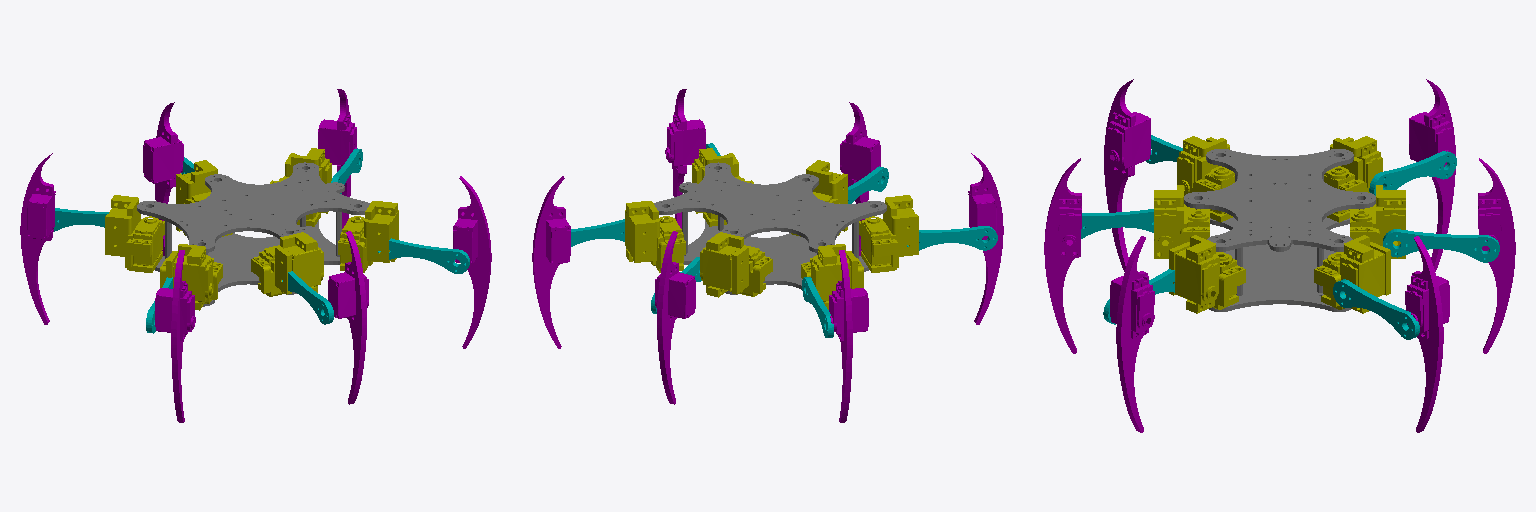
robot.urdf — hexapod:
<?xml version="1.0" encoding="utf-8"?>
<!-- =================================================================================== -->
<!-- |    This document was autogenerated by xacro from hexapod_model.xacro            | -->
<!-- |    EDITING THIS FILE BY HAND IS NOT RECOMMENDED                                 | -->
<!-- =================================================================================== -->
<robot name="hexapod">
  <!-- Robot Frame -->
  <link name="base_link"/>
  <joint name="base_joint" type="fixed">
    <parent link="base_link"/>
    <child link="body"/>
    <origin rpy="0 0 0" xyz="0 0 0"/>
  </joint>
  <link name="body">
    <inertial>
      <mass value="0.8"/>
      <inertia ixx="0.007" ixy="0" ixz="0" iyy="0.012" iyz="0" izz="0.010"/>
    </inertial>
    <visual>
      <origin rpy="0 0 0" xyz="0 0 -0.027"/>
      <geometry>
        <mesh filename="package://hexapod_description/meshes/BODY.stl"/>
      </geometry>
      <material name="grey">
        <color rgba="0.5 0.5 0.5 1"/>
      </material>
    </visual>
    <collision>
      <origin rpy="0 0 0" xyz="0 0 0"/>
      <geometry>
        <mesh filename="package://hexapod_description/meshes/BODY_SIMPLIFIED.stl"/>
      </geometry>
    </collision>
  </link>
  <!-- Construindo a perna [Building a leg]-->
  <joint name="leg_center_joint_R1" type="fixed">
    <origin rpy="0 0 0" xyz="0.0875 0.050175 0"/>
    <parent link="body"/>
    <child link="leg_center_R1"/>
  </joint>
  <link name="leg_center_R1"/>
  <joint name="coxa_joint_R1" type="revolute">
    <origin rpy="0 0 2.35619449019" xyz="0 0 0"/>
    <parent link="leg_center_R1"/>
    <child link="coxa_R1"/>
    <axis xyz="0 0 -1"/>
    <limit effort="10000" lower="-1.5" upper="1.5" velocity="100"/>
  </joint>
  <link name="coxa_R1">
    <inertial>
      <mass value="0.5"/>
      <inertia ixx="0.001" ixy="0" ixz="0" iyy="0" iyz="0" izz="0.001"/>
    </inertial>
    <visual>
      <origin rpy="0 0 0" xyz="0 0 -0.025"/>
      <geometry>
        <mesh filename="package://hexapod_description/meshes/COXA_R.stl"/>
      </geometry>
      <material name="">
        <color rgba="0.7 0.7 0 1"/>
      </material>
    </visual>
    <collision>
      <origin rpy="0 0 0" xyz="0 0 0"/>
      <geometry>
        <mesh filename="package://hexapod_description/meshes/COXA_R_SIMPLIFIED.stl"/>
      </geometry>
    </collision>
  </link>
  <joint name="femur_joint_R1" type="revolute">
    <origin rpy="0 0 0" xyz="0 -0.03 0"/>
    <parent link="coxa_R1"/>
    <child link="femur_R1"/>
    <axis xyz="-1 0 0"/>
    <limit effort="10000" lower="-0.52" upper="0.61" velocity="100"/>
  </joint>
  <link name="femur_R1">
    <inertial>
      <mass value="0.05"/>
      <inertia ixx="0" ixy="0" ixz="0" iyy="0" iyz="0" izz="0"/>
    </inertial>
    <visual>
      <origin rpy="0 0 0" xyz="-0.022 0 0"/>
      <geometry>
        <mesh filename="package://hexapod_description/meshes/FEMUR_R.stl"/>
      </geometry>
      <material name="">
        <color rgba="0 0.7 0.7 1"/>
      </material>
    </visual>
    <collision>
      <origin rpy="0 0 0" xyz="0 0 0"/>
      <geometry>
        <mesh filename="package://hexapod_description/meshes/FEMUR_R_SIMPLIFIED.stl"/>
      </geometry>
    </collision>
  </link>
  <joint name="tibia_joint_R1" type="revolute">
    <origin rpy="-1.57079632679 0 3.14159265359" xyz="0 -0.08 0"/>
    <parent link="femur_R1"/>
    <child link="tibia_R1"/>
    <axis xyz="1 0 0"/>
    <limit effort="10000" lower="-0.87" upper="1.22" velocity="100"/>
  </joint>
  <link name="tibia_R1">
    <inertial>
      <mass value="0.2"/>
      <inertia ixx="0" ixy="0" ixz="0" iyy="0" iyz="0" izz="0"/>
    </inertial>
    <visual>
      <origin rpy="2.61799387799  3.14159265359 0" xyz="0.022 0 0"/>
      <geometry>
        <mesh filename="package://hexapod_description/meshes/TIBIA_R.stl"/>
      </geometry>
      <material name="">
        <color rgba="0.7 0 0.7 1"/>
      </material>
    </visual>
    <collision>
      <origin rpy="0 0 0" xyz="0 0 0"/>
      <geometry>
        <mesh filename="package://hexapod_description/meshes/TIBIA_R_SIMPLIFIED.stl"/>
      </geometry>
    </collision>
  </link>
  <joint name="tibia_foot_joint_R1" type="fixed">
    <origin rpy="0 0 0" xyz="0 0.110 0"/>
    <parent link="tibia_R1"/>
    <child link="tibia_foot_R1"/>
  </joint>
  <link name="tibia_foot_R1"/>
  <!-- Construindo a perna [Building a leg]-->
  <joint name="leg_center_joint_R2" type="fixed">
    <origin rpy="0 0 0" xyz="0 0.07 0"/>
    <parent link="body"/>
    <child link="leg_center_R2"/>
  </joint>
  <link name="leg_center_R2"/>
  <joint name="coxa_joint_R2" type="revolute">
    <origin rpy="0 0 3.14159265359" xyz="0 0 0"/>
    <parent link="leg_center_R2"/>
    <child link="coxa_R2"/>
    <axis xyz="0 0 -1"/>
    <limit effort="10000" lower="-1.5" upper="1.5" velocity="100"/>
  </joint>
  <link name="coxa_R2">
    <inertial>
      <mass value="0.5"/>
      <inertia ixx="0.001" ixy="0" ixz="0" iyy="0" iyz="0" izz="0.001"/>
    </inertial>
    <visual>
      <origin rpy="0 0 0" xyz="0 0 -0.025"/>
      <geometry>
        <mesh filename="package://hexapod_description/meshes/COXA_R.stl"/>
      </geometry>
      <material name="">
        <color rgba="0.7 0.7 0 1"/>
      </material>
    </visual>
    <collision>
      <origin rpy="0 0 0" xyz="0 0 0"/>
      <geometry>
        <mesh filename="package://hexapod_description/meshes/COXA_R_SIMPLIFIED.stl"/>
      </geometry>
    </collision>
  </link>
  <joint name="femur_joint_R2" type="revolute">
    <origin rpy="0 0 0" xyz="0 -0.03 0"/>
    <parent link="coxa_R2"/>
    <child link="femur_R2"/>
    <axis xyz="-1 0 0"/>
    <limit effort="10000" lower="-0.52" upper="0.61" velocity="100"/>
  </joint>
  <link name="femur_R2">
    <inertial>
      <mass value="0.05"/>
      <inertia ixx="0" ixy="0" ixz="0" iyy="0" iyz="0" izz="0"/>
    </inertial>
    <visual>
      <origin rpy="0 0 0" xyz="-0.022 0 0"/>
      <geometry>
        <mesh filename="package://hexapod_description/meshes/FEMUR_R.stl"/>
      </geometry>
      <material name="">
        <color rgba="0 0.7 0.7 1"/>
      </material>
    </visual>
    <collision>
      <origin rpy="0 0 0" xyz="0 0 0"/>
      <geometry>
        <mesh filename="package://hexapod_description/meshes/FEMUR_R_SIMPLIFIED.stl"/>
      </geometry>
    </collision>
  </link>
  <joint name="tibia_joint_R2" type="revolute">
    <origin rpy="-1.57079632679 0 3.14159265359" xyz="0 -0.08 0"/>
    <parent link="femur_R2"/>
    <child link="tibia_R2"/>
    <axis xyz="1 0 0"/>
    <limit effort="10000" lower="-0.87" upper="1.22" velocity="100"/>
  </joint>
  <link name="tibia_R2">
    <inertial>
      <mass value="0.2"/>
      <inertia ixx="0" ixy="0" ixz="0" iyy="0" iyz="0" izz="0"/>
    </inertial>
    <visual>
      <origin rpy="2.61799387799  3.14159265359 0" xyz="0.022 0 0"/>
      <geometry>
        <mesh filename="package://hexapod_description/meshes/TIBIA_R.stl"/>
      </geometry>
      <material name="">
        <color rgba="0.7 0 0.7 1"/>
      </material>
    </visual>
    <collision>
      <origin rpy="0 0 0" xyz="0 0 0"/>
      <geometry>
        <mesh filename="package://hexapod_description/meshes/TIBIA_R_SIMPLIFIED.stl"/>
      </geometry>
    </collision>
  </link>
  <joint name="tibia_foot_joint_R2" type="fixed">
    <origin rpy="0 0 0" xyz="0 0.110 0"/>
    <parent link="tibia_R2"/>
    <child link="tibia_foot_R2"/>
  </joint>
  <link name="tibia_foot_R2"/>
  <!-- Construindo a perna [Building a leg]-->
  <joint name="leg_center_joint_R3" type="fixed">
    <origin rpy="0 0 0" xyz="-0.0875 0.050175 0"/>
    <parent link="body"/>
    <child link="leg_center_R3"/>
  </joint>
  <link name="leg_center_R3"/>
  <joint name="coxa_joint_R3" type="revolute">
    <origin rpy="0 0 3.92699081699" xyz="0 0 0"/>
    <parent link="leg_center_R3"/>
    <child link="coxa_R3"/>
    <axis xyz="0 0 -1"/>
    <limit effort="10000" lower="-1.5" upper="1.5" velocity="100"/>
  </joint>
  <link name="coxa_R3">
    <inertial>
      <mass value="0.5"/>
      <inertia ixx="0.001" ixy="0" ixz="0" iyy="0" iyz="0" izz="0.001"/>
    </inertial>
    <visual>
      <origin rpy="0 0 0" xyz="0 0 -0.025"/>
      <geometry>
        <mesh filename="package://hexapod_description/meshes/COXA_R.stl"/>
      </geometry>
      <material name="">
        <color rgba="0.7 0.7 0 1"/>
      </material>
    </visual>
    <collision>
      <origin rpy="0 0 0" xyz="0 0 0"/>
      <geometry>
        <mesh filename="package://hexapod_description/meshes/COXA_R_SIMPLIFIED.stl"/>
      </geometry>
    </collision>
  </link>
  <joint name="femur_joint_R3" type="revolute">
    <origin rpy="0 0 0" xyz="0 -0.03 0"/>
    <parent link="coxa_R3"/>
    <child link="femur_R3"/>
    <axis xyz="-1 0 0"/>
    <limit effort="10000" lower="-0.52" upper="0.61" velocity="100"/>
  </joint>
  <link name="femur_R3">
    <inertial>
      <mass value="0.05"/>
      <inertia ixx="0" ixy="0" ixz="0" iyy="0" iyz="0" izz="0"/>
    </inertial>
    <visual>
      <origin rpy="0 0 0" xyz="-0.022 0 0"/>
      <geometry>
        <mesh filename="package://hexapod_description/meshes/FEMUR_R.stl"/>
      </geometry>
      <material name="">
        <color rgba="0 0.7 0.7 1"/>
      </material>
    </visual>
    <collision>
      <origin rpy="0 0 0" xyz="0 0 0"/>
      <geometry>
        <mesh filename="package://hexapod_description/meshes/FEMUR_R_SIMPLIFIED.stl"/>
      </geometry>
    </collision>
  </link>
  <joint name="tibia_joint_R3" type="revolute">
    <origin rpy="-1.57079632679 0 3.14159265359" xyz="0 -0.08 0"/>
    <parent link="femur_R3"/>
    <child link="tibia_R3"/>
    <axis xyz="1 0 0"/>
    <limit effort="10000" lower="-0.87" upper="1.22" velocity="100"/>
  </joint>
  <link name="tibia_R3">
    <inertial>
      <mass value="0.2"/>
      <inertia ixx="0" ixy="0" ixz="0" iyy="0" iyz="0" izz="0"/>
    </inertial>
    <visual>
      <origin rpy="2.61799387799  3.14159265359 0" xyz="0.022 0 0"/>
      <geometry>
        <mesh filename="package://hexapod_description/meshes/TIBIA_R.stl"/>
      </geometry>
      <material name="">
        <color rgba="0.7 0 0.7 1"/>
      </material>
    </visual>
    <collision>
      <origin rpy="0 0 0" xyz="0 0 0"/>
      <geometry>
        <mesh filename="package://hexapod_description/meshes/TIBIA_R_SIMPLIFIED.stl"/>
      </geometry>
    </collision>
  </link>
  <joint name="tibia_foot_joint_R3" type="fixed">
    <origin rpy="0 0 0" xyz="0 0.110 0"/>
    <parent link="tibia_R3"/>
    <child link="tibia_foot_R3"/>
  </joint>
  <link name="tibia_foot_R3"/>
  <!-- Construindo a perna [Building a leg]-->
  <joint name="leg_center_joint_L1" type="fixed">
    <origin rpy="0 0 0" xyz="0.0875 -0.050175 0"/>
    <parent link="body"/>
    <child link="leg_center_L1"/>
  </joint>
  <link name="leg_center_L1"/>
  <joint name="coxa_joint_L1" type="revolute">
    <origin rpy="0 0 -2.35619449019" xyz="0 0 0"/>
    <parent link="leg_center_L1"/>
    <child link="coxa_L1"/>
    <axis xyz="0 0 -1"/>
    <limit effort="10000" lower="-1.5" upper="1.5" velocity="100"/>
  </joint>
  <link name="coxa_L1">
    <inertial>
      <mass value="0.5"/>
      <inertia ixx="0.001" ixy="0" ixz="0" iyy="0" iyz="0" izz="0.001"/>
    </inertial>
    <visual>
      <origin rpy="0 0 0" xyz="0 0 -0.025"/>
      <geometry>
        <mesh filename="package://hexapod_description/meshes/COXA_L.stl"/>
      </geometry>
      <material name="">
        <color rgba="0.7 0.7 0 1"/>
      </material>
    </visual>
    <collision>
      <origin rpy="0 0 0" xyz="0 0 0"/>
      <geometry>
        <mesh filename="package://hexapod_description/meshes/COXA_L_SIMPLIFIED.stl"/>
      </geometry>
    </collision>
  </link>
  <joint name="femur_joint_L1" type="revolute">
    <origin rpy="0 0 0" xyz="0 0.03 0"/>
    <parent link="coxa_L1"/>
    <child link="femur_L1"/>
    <axis xyz="-1 0 0"/>
    <limit effort="10000" lower="-0.52" upper="0.61" velocity="100"/>
  </joint>
  <link name="femur_L1">
    <inertial>
      <mass value="0.05"/>
      <inertia ixx="0" ixy="0" ixz="0" iyy="0" iyz="0" izz="0"/>
    </inertial>
    <visual>
      <origin rpy="0 0 0" xyz="0.022 0 0"/>
      <geometry>
        <mesh filename="package://hexapod_description/meshes/FEMUR_L.stl"/>
      </geometry>
      <material name="">
        <color rgba="0 0.7 0.7 1"/>
      </material>
    </visual>
    <collision>
      <origin rpy="0 0 0" xyz="0 0 0"/>
      <geometry>
        <mesh filename="package://hexapod_description/meshes/FEMUR_L_SIMPLIFIED.stl"/>
      </geometry>
    </collision>
  </link>
  <joint name="tibia_joint_L1" type="revolute">
    <origin rpy="-1.57079632679 0 0.0" xyz="0 0.08 0"/>
    <parent link="femur_L1"/>
    <child link="tibia_L1"/>
    <axis xyz="1 0 0"/>
    <limit effort="10000" lower="-0.87" upper="1.22" velocity="100"/>
  </joint>
  <link name="tibia_L1">
    <inertial>
      <mass value="0.2"/>
      <inertia ixx="0" ixy="0" ixz="0" iyy="0" iyz="0" izz="0"/>
    </inertial>
    <visual>
      <origin rpy="0.523598775598  0.0 0" xyz="-0.022 0 0"/>
      <geometry>
        <mesh filename="package://hexapod_description/meshes/TIBIA_L.stl"/>
      </geometry>
      <material name="">
        <color rgba="0.7 0 0.7 1"/>
      </material>
    </visual>
    <collision>
      <origin rpy="0 0 0" xyz="0 0 0"/>
      <geometry>
        <mesh filename="package://hexapod_description/meshes/TIBIA_L_SIMPLIFIED.stl"/>
      </geometry>
    </collision>
  </link>
  <joint name="tibia_foot_joint_L1" type="fixed">
    <origin rpy="0 0 0" xyz="0 0.110 0"/>
    <parent link="tibia_L1"/>
    <child link="tibia_foot_L1"/>
  </joint>
  <link name="tibia_foot_L1"/>
  <!-- Construindo a perna [Building a leg]-->
  <joint name="leg_center_joint_L2" type="fixed">
    <origin rpy="0 0 0" xyz="0 -0.07 0"/>
    <parent link="body"/>
    <child link="leg_center_L2"/>
  </joint>
  <link name="leg_center_L2"/>
  <joint name="coxa_joint_L2" type="revolute">
    <origin rpy="0 0 -3.14159265359" xyz="0 0 0"/>
    <parent link="leg_center_L2"/>
    <child link="coxa_L2"/>
    <axis xyz="0 0 -1"/>
    <limit effort="10000" lower="-1.5" upper="1.5" velocity="100"/>
  </joint>
  <link name="coxa_L2">
    <inertial>
      <mass value="0.5"/>
      <inertia ixx="0.001" ixy="0" ixz="0" iyy="0" iyz="0" izz="0.001"/>
    </inertial>
    <visual>
      <origin rpy="0 0 0" xyz="0 0 -0.025"/>
      <geometry>
        <mesh filename="package://hexapod_description/meshes/COXA_L.stl"/>
      </geometry>
      <material name="">
        <color rgba="0.7 0.7 0 1"/>
      </material>
    </visual>
    <collision>
      <origin rpy="0 0 0" xyz="0 0 0"/>
      <geometry>
        <mesh filename="package://hexapod_description/meshes/COXA_L_SIMPLIFIED.stl"/>
      </geometry>
    </collision>
  </link>
  <joint name="femur_joint_L2" type="revolute">
    <origin rpy="0 0 0" xyz="0 0.03 0"/>
    <parent link="coxa_L2"/>
    <child link="femur_L2"/>
    <axis xyz="-1 0 0"/>
    <limit effort="10000" lower="-0.52" upper="0.61" velocity="100"/>
  </joint>
  <link name="femur_L2">
    <inertial>
      <mass value="0.05"/>
      <inertia ixx="0" ixy="0" ixz="0" iyy="0" iyz="0" izz="0"/>
    </inertial>
    <visual>
      <origin rpy="0 0 0" xyz="0.022 0 0"/>
      <geometry>
        <mesh filename="package://hexapod_description/meshes/FEMUR_L.stl"/>
      </geometry>
      <material name="">
        <color rgba="0 0.7 0.7 1"/>
      </material>
    </visual>
    <collision>
      <origin rpy="0 0 0" xyz="0 0 0"/>
      <geometry>
        <mesh filename="package://hexapod_description/meshes/FEMUR_L_SIMPLIFIED.stl"/>
      </geometry>
    </collision>
  </link>
  <joint name="tibia_joint_L2" type="revolute">
    <origin rpy="-1.57079632679 0 0.0" xyz="0 0.08 0"/>
    <parent link="femur_L2"/>
    <child link="tibia_L2"/>
    <axis xyz="1 0 0"/>
    <limit effort="10000" lower="-0.87" upper="1.22" velocity="100"/>
  </joint>
  <link name="tibia_L2">
    <inertial>
      <mass value="0.2"/>
      <inertia ixx="0" ixy="0" ixz="0" iyy="0" iyz="0" izz="0"/>
    </inertial>
    <visual>
      <origin rpy="0.523598775598  0.0 0" xyz="-0.022 0 0"/>
      <geometry>
        <mesh filename="package://hexapod_description/meshes/TIBIA_L.stl"/>
      </geometry>
      <material name="">
        <color rgba="0.7 0 0.7 1"/>
      </material>
    </visual>
    <collision>
      <origin rpy="0 0 0" xyz="0 0 0"/>
      <geometry>
        <mesh filename="package://hexapod_description/meshes/TIBIA_L_SIMPLIFIED.stl"/>
      </geometry>
    </collision>
  </link>
  <joint name="tibia_foot_joint_L2" type="fixed">
    <origin rpy="0 0 0" xyz="0 0.110 0"/>
    <parent link="tibia_L2"/>
    <child link="tibia_foot_L2"/>
  </joint>
  <link name="tibia_foot_L2"/>
  <!-- Construindo a perna [Building a leg]-->
  <joint name="leg_center_joint_L3" type="fixed">
    <origin rpy="0 0 0" xyz="-0.0875 -0.050175 0"/>
    <parent link="body"/>
    <child link="leg_center_L3"/>
  </joint>
  <link name="leg_center_L3"/>
  <joint name="coxa_joint_L3" type="revolute">
    <origin rpy="0 0 -3.92699081699" xyz="0 0 0"/>
    <parent link="leg_center_L3"/>
    <child link="coxa_L3"/>
    <axis xyz="0 0 -1"/>
    <limit effort="10000" lower="-1.5" upper="1.5" velocity="100"/>
  </joint>
  <link name="coxa_L3">
    <inertial>
      <mass value="0.5"/>
      <inertia ixx="0.001" ixy="0" ixz="0" iyy="0" iyz="0" izz="0.001"/>
    </inertial>
    <visual>
      <origin rpy="0 0 0" xyz="0 0 -0.025"/>
      <geometry>
        <mesh filename="package://hexapod_description/meshes/COXA_L.stl"/>
      </geometry>
      <material name="">
        <color rgba="0.7 0.7 0 1"/>
      </material>
    </visual>
    <collision>
      <origin rpy="0 0 0" xyz="0 0 0"/>
      <geometry>
        <mesh filename="package://hexapod_description/meshes/COXA_L_SIMPLIFIED.stl"/>
      </geometry>
    </collision>
  </link>
  <joint name="femur_joint_L3" type="revolute">
    <origin rpy="0 0 0" xyz="0 0.03 0"/>
    <parent link="coxa_L3"/>
    <child link="femur_L3"/>
    <axis xyz="-1 0 0"/>
    <limit effort="10000" lower="-0.52" upper="0.61" velocity="100"/>
  </joint>
  <link name="femur_L3">
    <inertial>
      <mass value="0.05"/>
      <inertia ixx="0" ixy="0" ixz="0" iyy="0" iyz="0" izz="0"/>
    </inertial>
    <visual>
      <origin rpy="0 0 0" xyz="0.022 0 0"/>
      <geometry>
        <mesh filename="package://hexapod_description/meshes/FEMUR_L.stl"/>
      </geometry>
      <material name="">
        <color rgba="0 0.7 0.7 1"/>
      </material>
    </visual>
    <collision>
      <origin rpy="0 0 0" xyz="0 0 0"/>
      <geometry>
        <mesh filename="package://hexapod_description/meshes/FEMUR_L_SIMPLIFIED.stl"/>
      </geometry>
    </collision>
  </link>
  <joint name="tibia_joint_L3" type="revolute">
    <origin rpy="-1.57079632679 0 0.0" xyz="0 0.08 0"/>
    <parent link="femur_L3"/>
    <child link="tibia_L3"/>
    <axis xyz="1 0 0"/>
    <limit effort="10000" lower="-0.87" upper="1.22" velocity="100"/>
  </joint>
  <link name="tibia_L3">
    <inertial>
      <mass value="0.2"/>
      <inertia ixx="0" ixy="0" ixz="0" iyy="0" iyz="0" izz="0"/>
    </inertial>
    <visual>
      <origin rpy="0.523598775598  0.0 0" xyz="-0.022 0 0"/>
      <geometry>
        <mesh filename="package://hexapod_description/meshes/TIBIA_L.stl"/>
      </geometry>
      <material name="">
        <color rgba="0.7 0 0.7 1"/>
      </material>
    </visual>
    <collision>
      <origin rpy="0 0 0" xyz="0 0 0"/>
      <geometry>
        <mesh filename="package://hexapod_description/meshes/TIBIA_L_SIMPLIFIED.stl"/>
      </geometry>
    </collision>
  </link>
  <joint name="tibia_foot_joint_L3" type="fixed">
    <origin rpy="0 0 0" xyz="0 0.110 0"/>
    <parent link="tibia_L3"/>
    <child link="tibia_foot_L3"/>
  </joint>
  <link name="tibia_foot_L3"/>
</robot>

--- What the picture shows (computed from the rendered views, not written in the file) ---
The picture shows the robot from 3 angles, left to right: view 1: azimuth 30°, elevation 25°; view 2: azimuth 150°, elevation 25°; view 3: azimuth 270°, elevation 25°; orthographic projection.
Robot: hexapod — 32 links, 31 joints (18 revolute, 13 fixed); root link base_link; default pose: every joint at zero.
Links seen in each view (by area): view 1: body, coxa_R3, coxa_L2, tibia_L2, tibia_R3, tibia_L1, tibia_L3, coxa_L1, tibia_R2, coxa_L3, tibia_R1, femur_L1 (+5 smaller); view 2: body, coxa_R2, coxa_L3, tibia_R1, tibia_R2, coxa_R1, tibia_R3, tibia_L3, tibia_L1, tibia_L2, coxa_R3, femur_L3 (+5 smaller); view 3: body, tibia_L1, coxa_L1, tibia_R1, tibia_L3, tibia_L2, tibia_R2, coxa_R1, tibia_R3, coxa_L2, coxa_L3, coxa_R3 (+7 smaller).
Boxes of the visible links, x1,y1,x2,y2 form: body: [137, 162, 369, 306]; coxa_R3: [105, 195, 164, 272]; coxa_L2: [251, 232, 323, 296]; tibia_L2: [328, 231, 368, 404]; tibia_R3: [20, 153, 55, 324]; tibia_L1: [453, 176, 491, 348]; tibia_L3: [155, 250, 195, 422]; coxa_L1: [338, 201, 398, 272]; tibia_R2: [143, 102, 183, 255]; coxa_L3: [160, 244, 222, 310]; tibia_R1: [318, 89, 356, 228]; femur_L1: [378, 238, 469, 273]; body: [654, 162, 886, 303]; coxa_R2: [700, 232, 772, 297]; coxa_L3: [859, 195, 918, 272]; tibia_R1: [532, 176, 570, 348]; tibia_R2: [655, 231, 695, 404]; coxa_R1: [625, 201, 685, 272]; tibia_R3: [829, 250, 868, 422]; tibia_L3: [968, 153, 1003, 324]; tibia_L1: [665, 89, 705, 228]; tibia_L2: [840, 102, 880, 255]; coxa_R3: [801, 244, 863, 309]; femur_L3: [907, 226, 997, 250]; body: [1184, 149, 1375, 311]; tibia_L1: [1110, 236, 1154, 432]; coxa_L1: [1169, 235, 1245, 313]; tibia_R1: [1405, 236, 1449, 432]; tibia_L3: [1104, 79, 1150, 271]; tibia_L2: [1044, 158, 1081, 353]; tibia_R2: [1478, 158, 1515, 353]; coxa_R1: [1314, 235, 1390, 313]; tibia_R3: [1409, 79, 1455, 271]; coxa_L2: [1154, 185, 1209, 258]; coxa_L3: [1177, 136, 1234, 222]; coxa_R3: [1324, 136, 1382, 222].
Bounding box of the posed robot: 0.3778 × 0.4037 × 0.1829 m (x, y, z).
19 mesh visuals loaded from 7 distinct referenced files (7 binary STL).